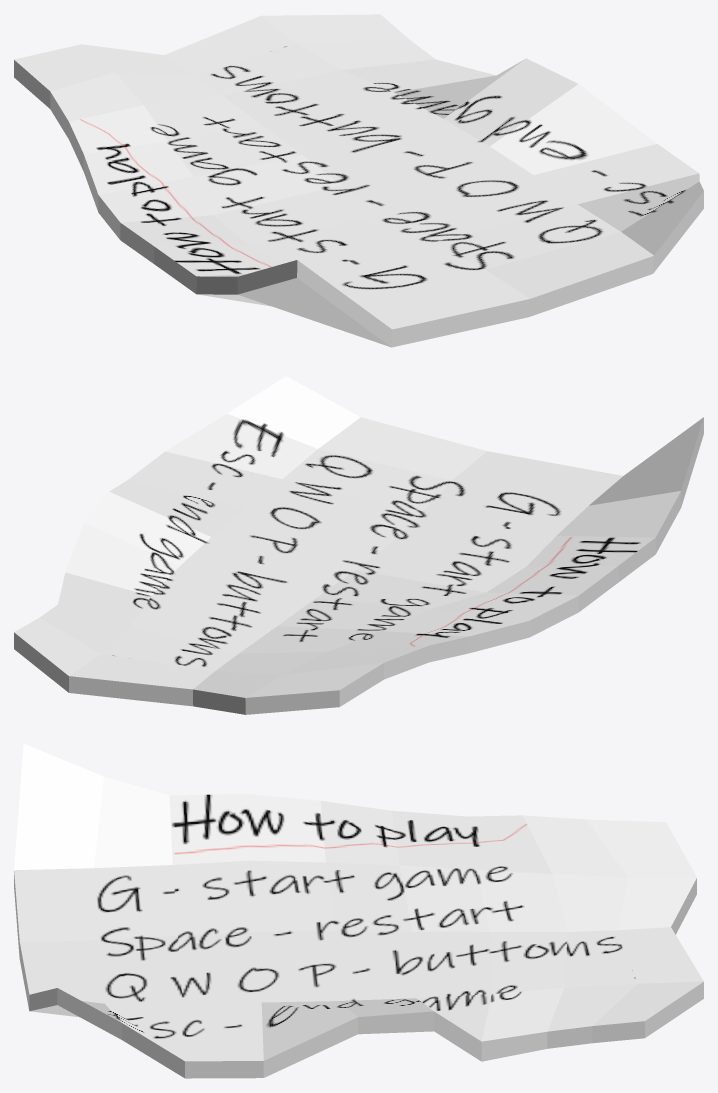
The model's file is DDLRControlsPageV2.fbx.
3 renders of one model, top to bottom at view 1: azimuth 30°, elevation 25°; view 2: azimuth 150°, elevation 25°; view 3: azimuth 270°, elevation 25°, orthographic. The views are drawn at different scales.
Visible parts, largest first — view 1: Cube; view 2: Cube; view 3: Cube.
Part boxes in pixels (left/top/right/bottom): Cube: left=14, top=14, right=703, bottom=347; Cube: left=14, top=376, right=703, bottom=714; Cube: left=14, top=743, right=703, bottom=1078.
Bounding box in the file's own units: 260 × 215 × 47.09.
